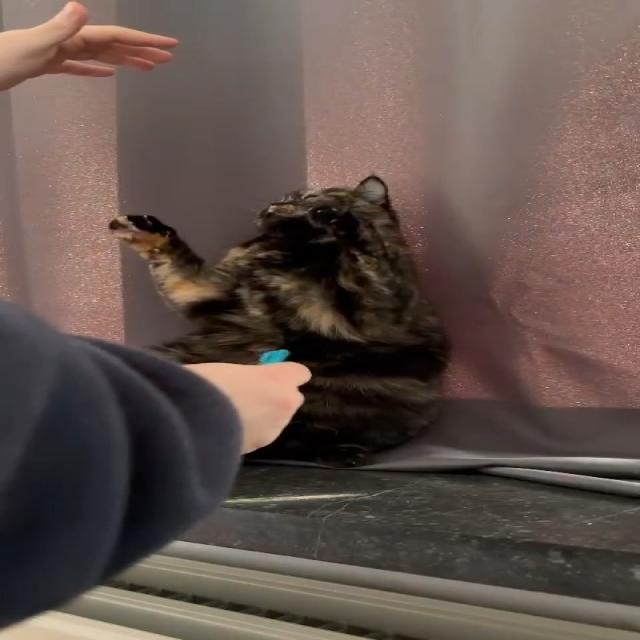authorized: (107, 174, 452, 468)
